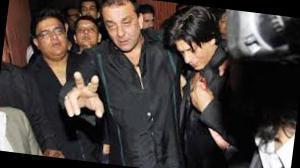Drunk: (103, 7, 140, 50), (176, 38, 211, 70), (39, 20, 67, 57)
